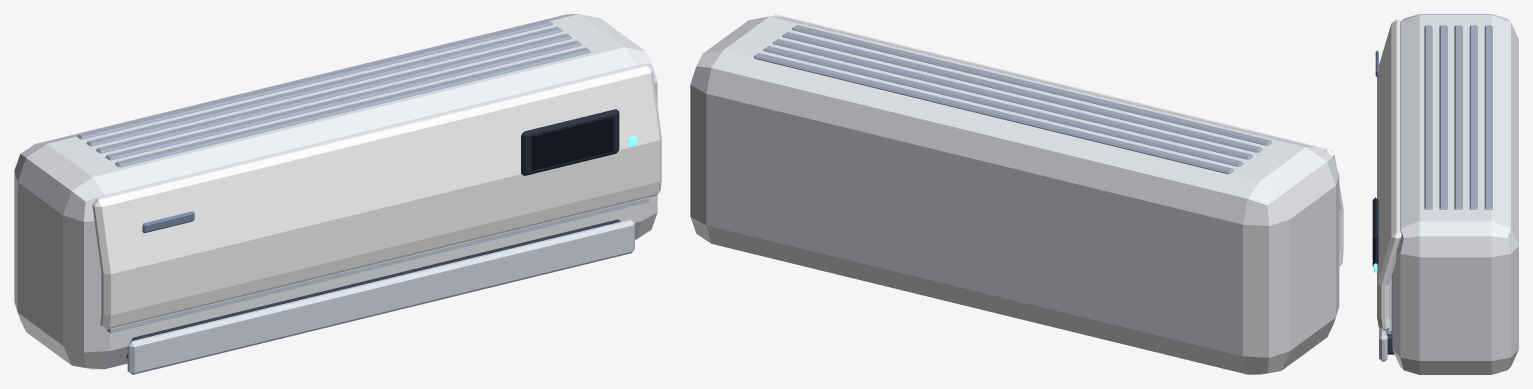
File: CuteAC.glb
3 views of the same model, side by side, from view 1: azimuth 30°, elevation 25°; view 2: azimuth 150°, elevation 25°; view 3: azimuth 270°, elevation 25° (orthographic). The views are drawn at different scales.
Visible parts, largest first — view 1: FrontPanel, Body, Louver, GrilleBar3, GrilleBar4, GrilleBar0, GrilleBar1, GrilleBar2, Seam, Display, Outlet, DisplayBezel (+1 smaller); view 2: Body, GrilleBar4, GrilleBar2, GrilleBar0, GrilleBar1, GrilleBar3, FrontPanel; view 3: Body, FrontPanel, GrilleBar0, GrilleBar1, GrilleBar2, GrilleBar3, GrilleBar4, DisplayBezel, Louver, Outlet.
Part boxes in pixels (x1,y1,x2,y2): FrontPanel: [92, 64, 661, 329]; Body: [14, 14, 657, 369]; Louver: [127, 219, 634, 374]; GrilleBar3: [86, 26, 562, 146]; GrilleBar4: [77, 20, 553, 139]; GrilleBar0: [115, 47, 590, 167]; GrilleBar1: [105, 40, 581, 160]; GrilleBar2: [96, 33, 571, 153]; Seam: [107, 197, 648, 333]; Display: [531, 117, 613, 171]; Outlet: [126, 219, 620, 358]; DisplayBezel: [521, 109, 619, 175]; Body: [690, 16, 1339, 374]; GrilleBar4: [754, 53, 1233, 174]; GrilleBar2: [773, 39, 1252, 159]; GrilleBar0: [792, 25, 1272, 145]; GrilleBar1: [782, 32, 1262, 152]; GrilleBar3: [763, 46, 1243, 166]; FrontPanel: [773, 14, 1343, 265]; Body: [1392, 14, 1518, 374]; FrontPanel: [1377, 19, 1401, 330]; GrilleBar0: [1424, 25, 1432, 209]; GrilleBar1: [1439, 25, 1447, 209]; GrilleBar2: [1454, 25, 1462, 209]; GrilleBar3: [1469, 25, 1477, 209]; GrilleBar4: [1484, 25, 1492, 209]; DisplayBezel: [1372, 197, 1378, 266]; Louver: [1379, 328, 1387, 361]; Outlet: [1386, 274, 1394, 354].
Size of the model in its own units: 1.8 by 0.566 by 0.4875.
